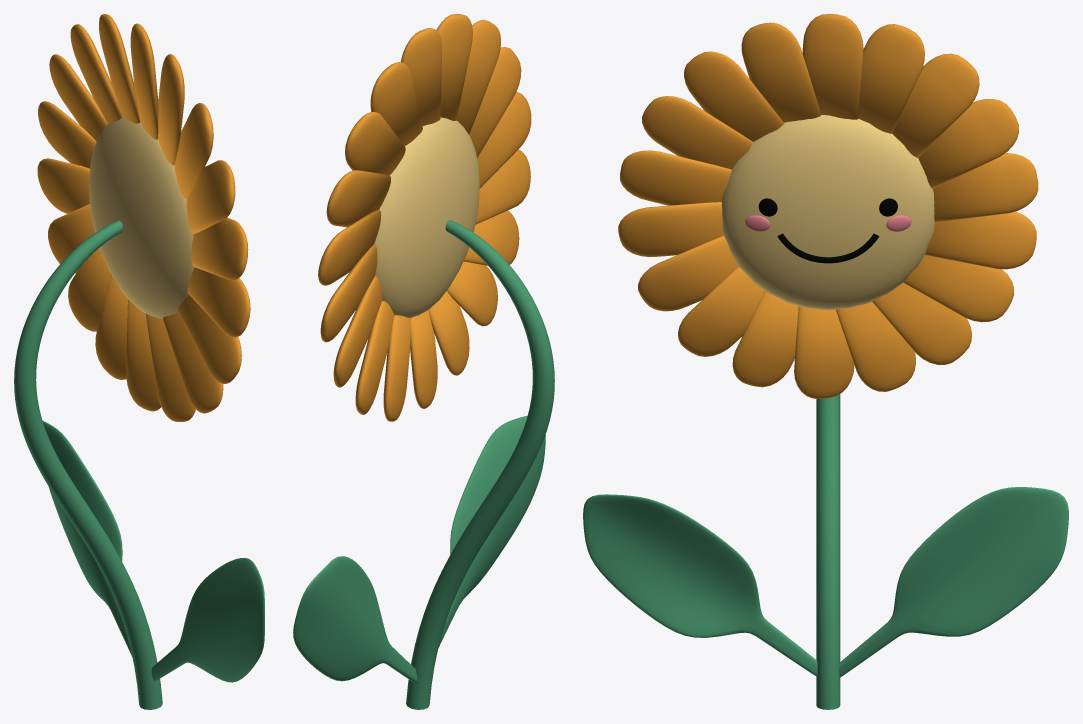
File: happy.glb
3 renders of one model, left to right at view 1: azimuth 30°, elevation 25°; view 2: azimuth 150°, elevation 25°; view 3: azimuth 270°, elevation 25°, orthographic.
Visible parts, largest first — view 1: Petals, Face, Stem, Left Leaf, Right Leaf; view 2: Petals, Face, Stem, Right Leaf, Left Leaf; view 3: Petals, Face, Right Leaf, Left Leaf, Stem, Mouth.
Boxes of the visible parts, x1=… form: Petals: x1=37, y1=14, x2=250, y2=421; Face: x1=89, y1=117, x2=194, y2=319; Stem: x1=14, y1=220, x2=162, y2=709; Left Leaf: x1=151, y1=558, x2=264, y2=682; Right Leaf: x1=43, y1=421, x2=132, y2=656; Petals: x1=318, y1=14, x2=531, y2=421; Face: x1=374, y1=117, x2=479, y2=318; Stem: x1=406, y1=220, x2=554, y2=709; Right Leaf: x1=293, y1=556, x2=417, y2=683; Left Leaf: x1=438, y1=415, x2=545, y2=647; Petals: x1=618, y1=14, x2=1038, y2=398; Face: x1=721, y1=115, x2=934, y2=310; Right Leaf: x1=838, y1=487, x2=1068, y2=677; Left Leaf: x1=583, y1=494, x2=817, y2=676; Stem: x1=816, y1=394, x2=840, y2=709; Mouth: x1=777, y1=233, x2=879, y2=263.
Size of the model in its own units: 1.8 by 6.95 by 4.45.
